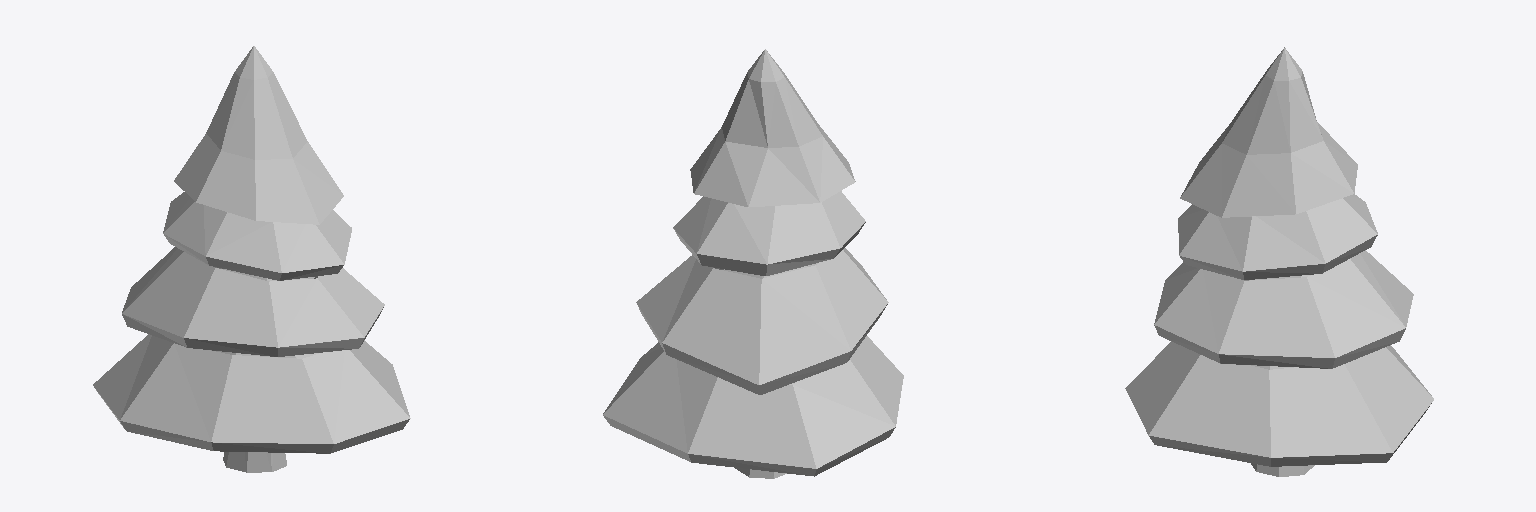
File: Tree-Round.obj
3 renders of one model, left to right at view 1: azimuth 30°, elevation 25°; view 2: azimuth 150°, elevation 25°; view 3: azimuth 270°, elevation 25°, orthographic.
Parts seen in each view (by area): view 1: Cube; view 2: Cube; view 3: Cube.
Part boxes in pixels (left/top/right/bottom): Cube: left=93, top=46, right=410, bottom=472; Cube: left=603, top=49, right=903, bottom=478; Cube: left=1125, top=47, right=1433, bottom=476.
Bounding box in the file's own units: 2.15 × 3.25 × 2.18.